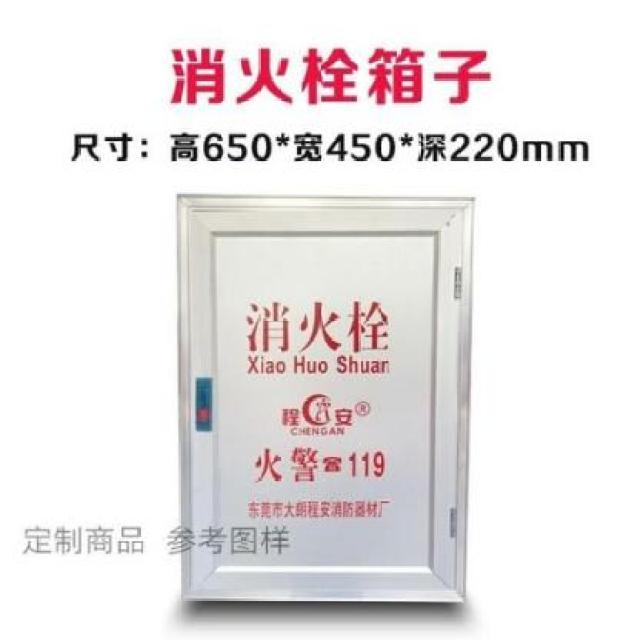firehydrant: (170, 189, 478, 607)
